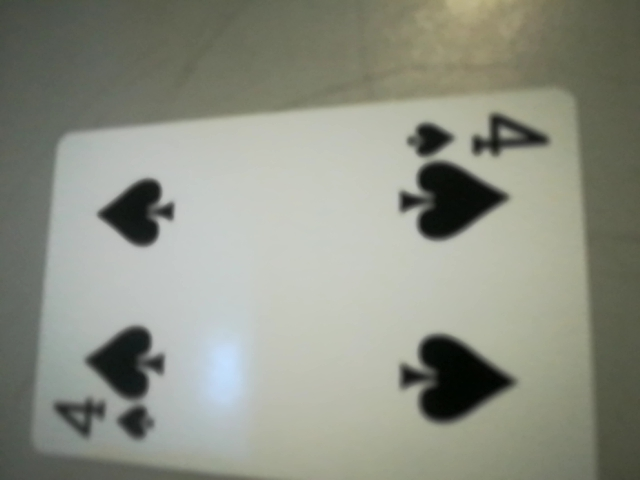ht 4: (385, 108, 559, 172)
